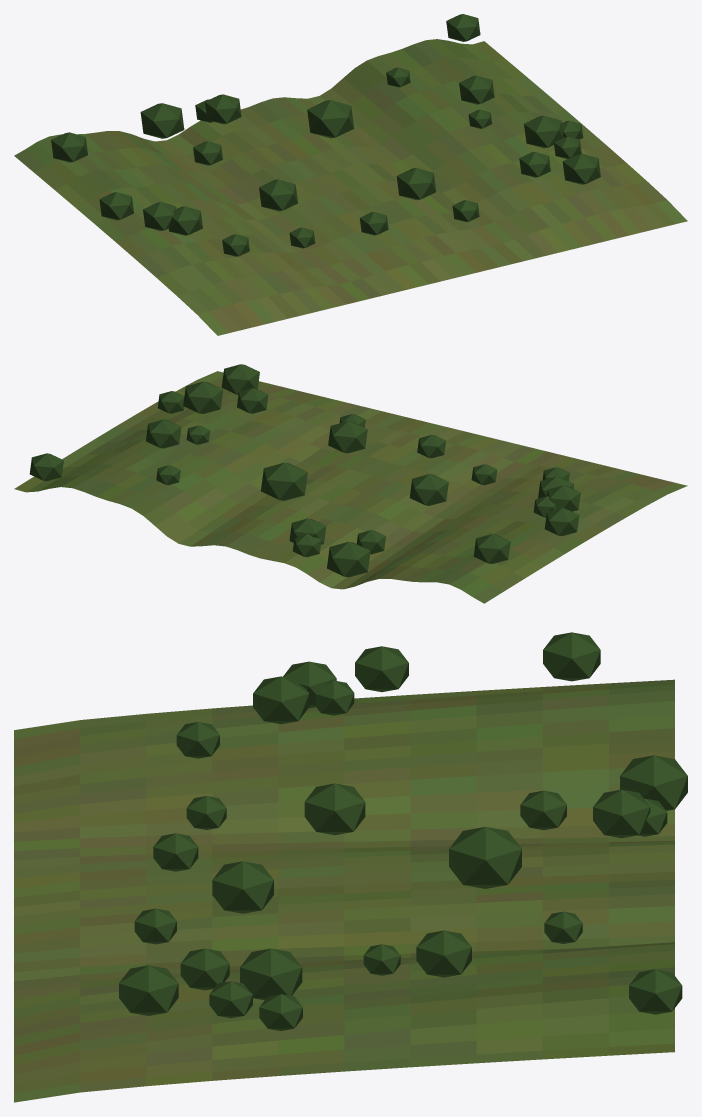
File: bg_field_ridge_1_idle.glb
3 renders of one model, top to bottom at view 1: azimuth 30°, elevation 25°; view 2: azimuth 150°, elevation 25°; view 3: azimuth 270°, elevation 25°, orthographic. The views are drawn at different scales.
Parts seen in each view (by area): view 1: ridge; view 2: ridge; view 3: ridge.
Boxes of the visible parts, bbox=[...] form: ridge: bbox=[14, 14, 687, 335]; ridge: bbox=[14, 364, 687, 603]; ridge: bbox=[14, 632, 687, 1102].
Bounding box in the file's own units: 40.22 × 5.85 × 30.59.
